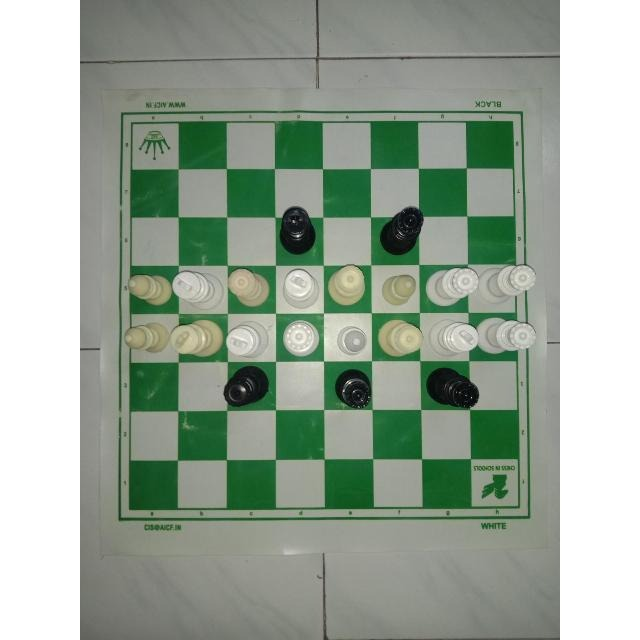black-king: (275, 206, 317, 257)
black-queen: (372, 203, 424, 255), (422, 366, 479, 410), (222, 366, 272, 408), (333, 367, 375, 408)
white-bishop: (124, 271, 173, 310), (122, 319, 169, 355), (378, 268, 418, 307), (331, 320, 367, 360)
white-king: (172, 269, 226, 315), (425, 315, 479, 358), (220, 318, 272, 358), (169, 321, 221, 360), (283, 267, 319, 310)
white-queen: (478, 262, 538, 308), (472, 316, 535, 355), (425, 264, 479, 308), (375, 317, 425, 359), (224, 267, 272, 310), (326, 263, 368, 306), (279, 319, 322, 359)
